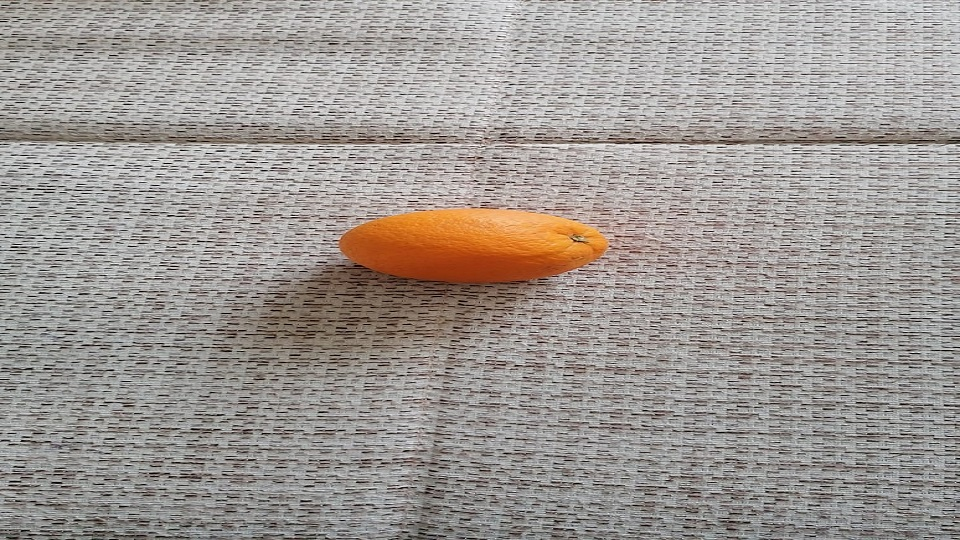portakal: (337, 207, 610, 283)
